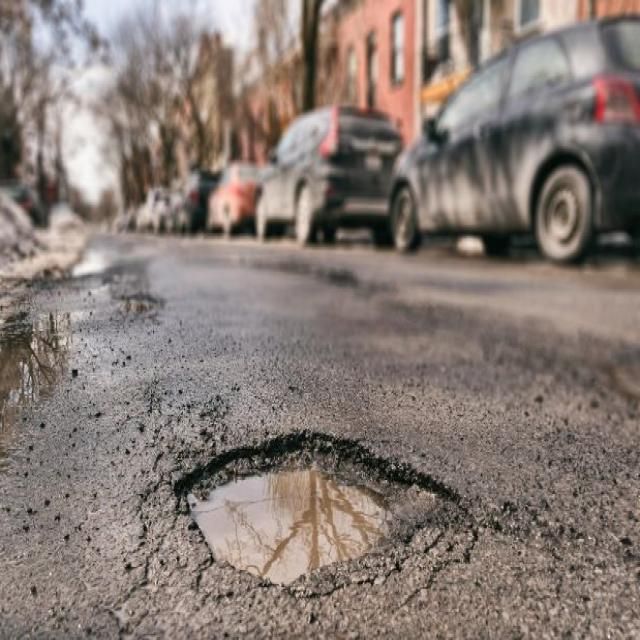pothole: (176, 422, 464, 590)
